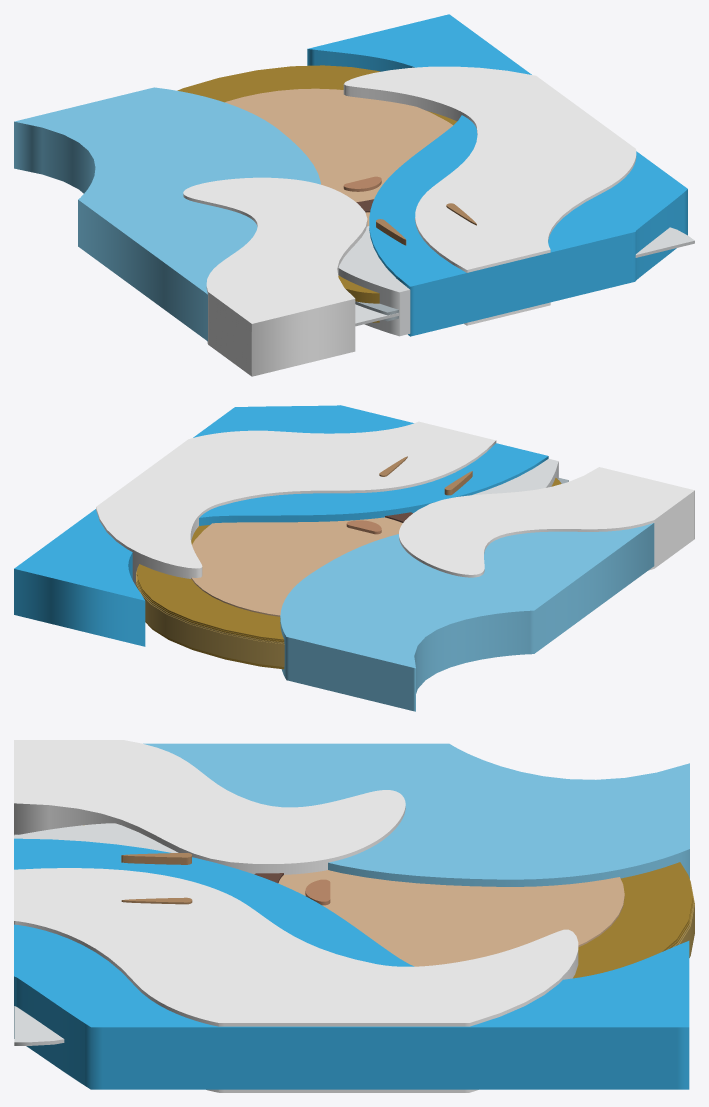
The model's file is emoji_u1f9d6_1f3fc_200d_2640.glb.
3 renders of one model, top to bottom at view 1: azimuth 30°, elevation 25°; view 2: azimuth 150°, elevation 25°; view 3: azimuth 270°, elevation 25°, orthographic. The views are drawn at different scales.
Parts seen in each view (by area): view 1: emoji_u1f9d6_1f3fc_200d_2640; view 2: emoji_u1f9d6_1f3fc_200d_2640; view 3: emoji_u1f9d6_1f3fc_200d_2640.
Boxes of the visible parts, bbox=[...] form: emoji_u1f9d6_1f3fc_200d_2640: bbox=[14, 14, 694, 376]; emoji_u1f9d6_1f3fc_200d_2640: bbox=[14, 405, 694, 711]; emoji_u1f9d6_1f3fc_200d_2640: bbox=[14, 740, 694, 1092].
Size of the model in its own units: 0.0333 by 0.0042 by 0.0336.
